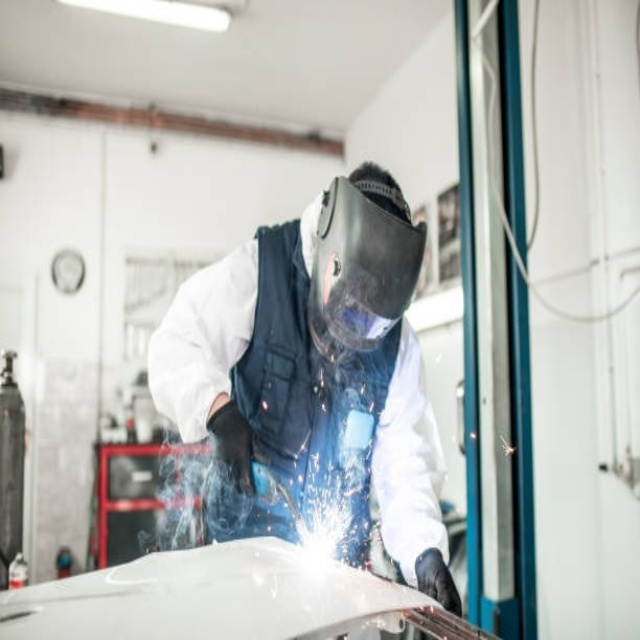Guantes: (207, 399, 260, 498), (415, 547, 462, 617)
